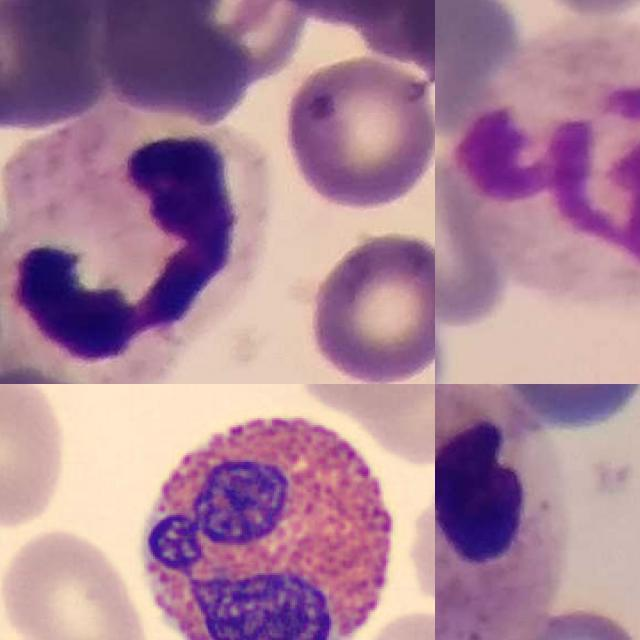Eosinophil: (121, 391, 412, 640)
Neutrophil: (0, 108, 269, 384), (457, 23, 640, 305), (435, 384, 570, 640)
RBC: (0, 521, 156, 640), (0, 384, 71, 534), (352, 384, 435, 471), (295, 384, 435, 419), (403, 467, 435, 618)
